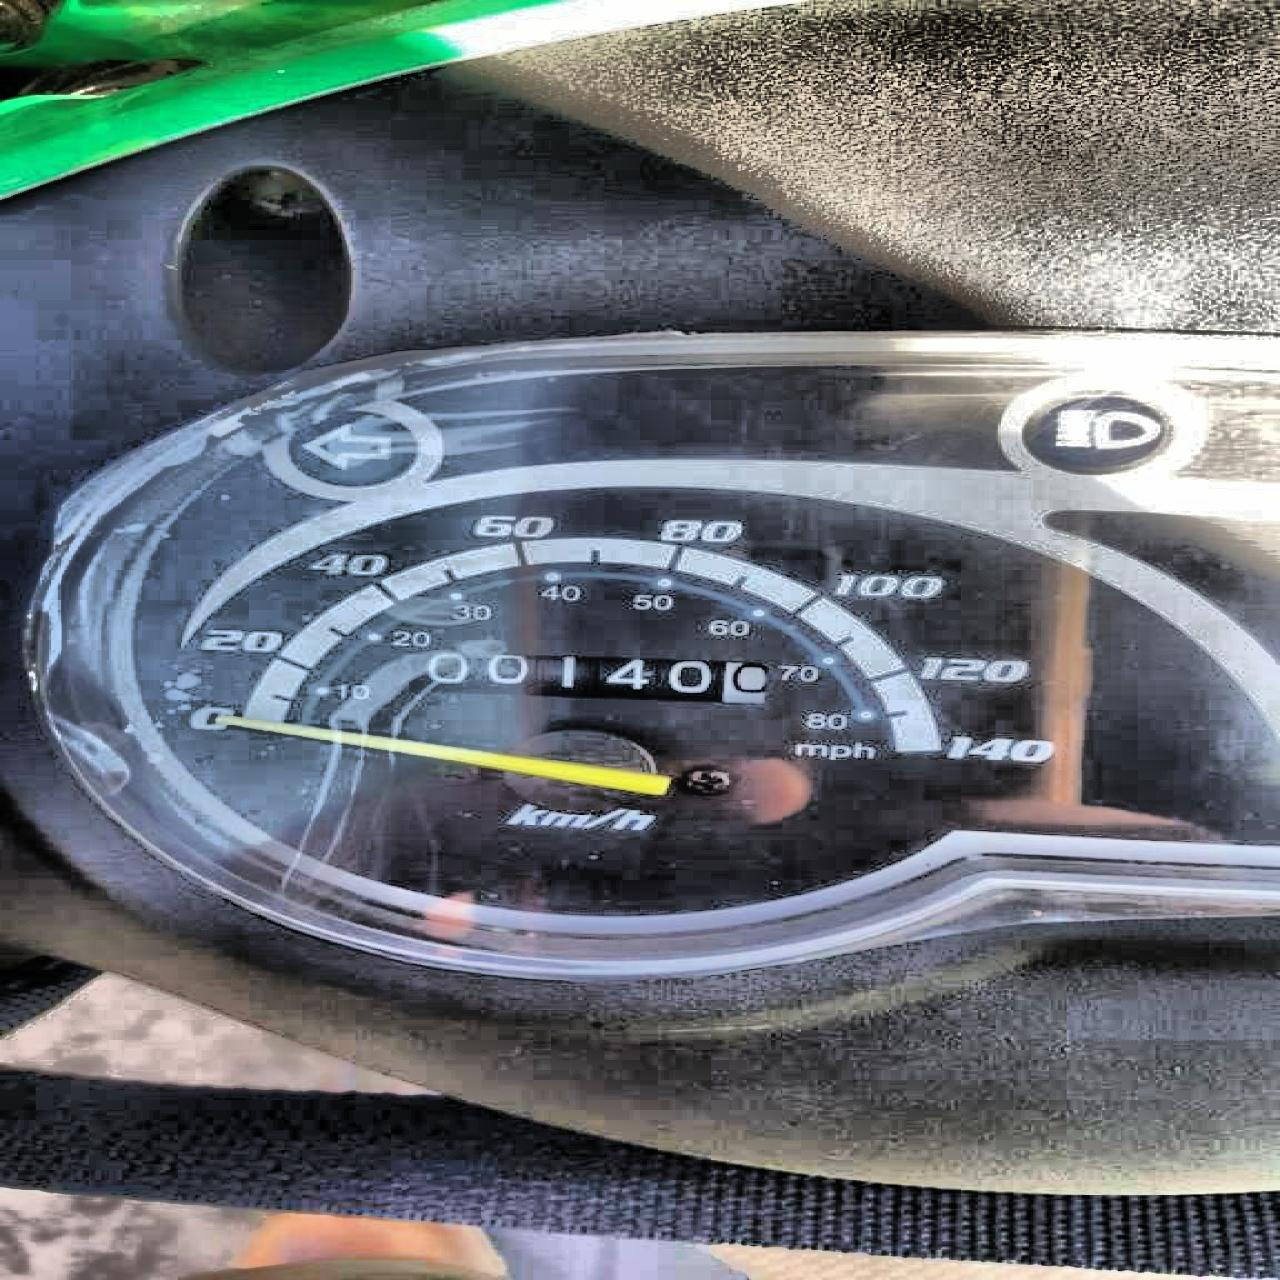0: (665, 660, 709, 693), (424, 649, 469, 682), (484, 653, 526, 686), (727, 662, 769, 694)
1: (558, 654, 576, 690)
4: (602, 658, 648, 690)
odometer: (409, 647, 782, 702)
